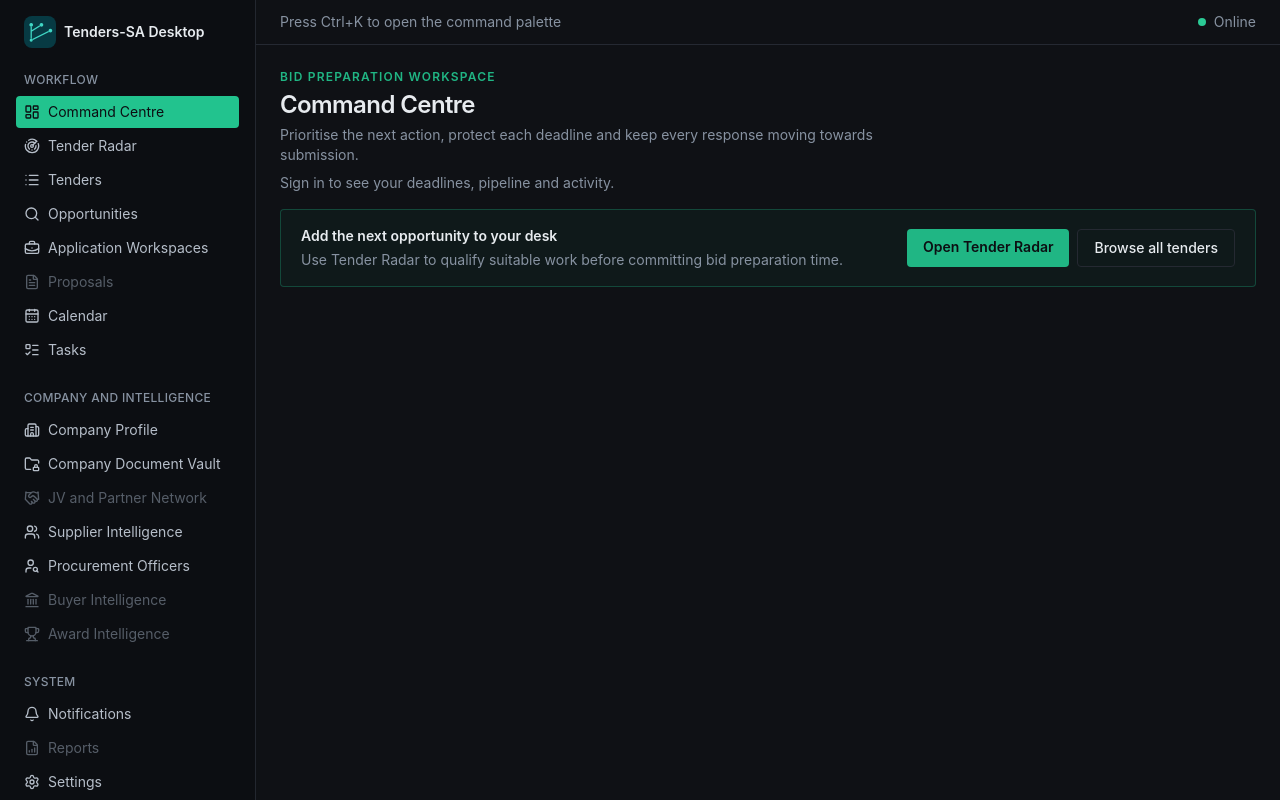
CommandPalette › shows an empty state when nothing matches
The image size is (1280, 800).
Type keys "{Control>}k{/Control}"
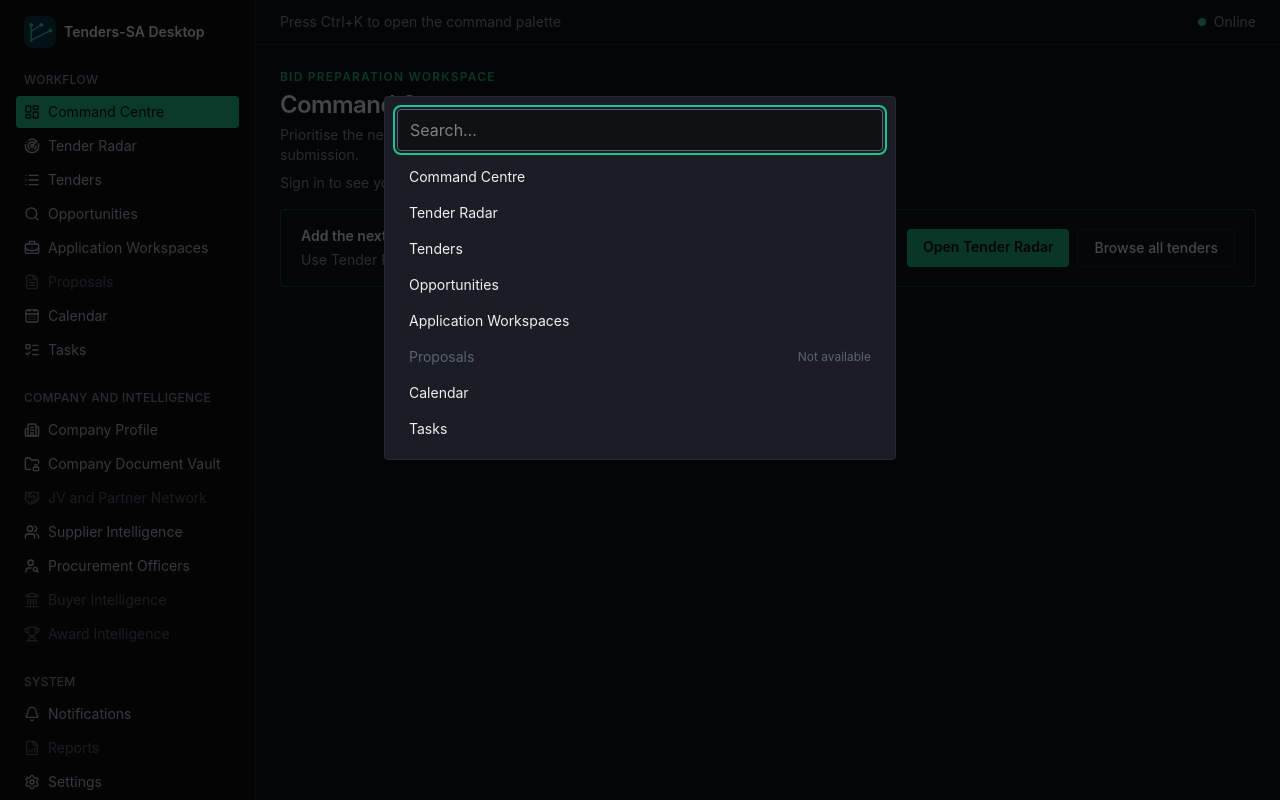
Type "zzzznotathing" into the field named "Search commands". click: (640, 130)
box: [397,109,883,151]
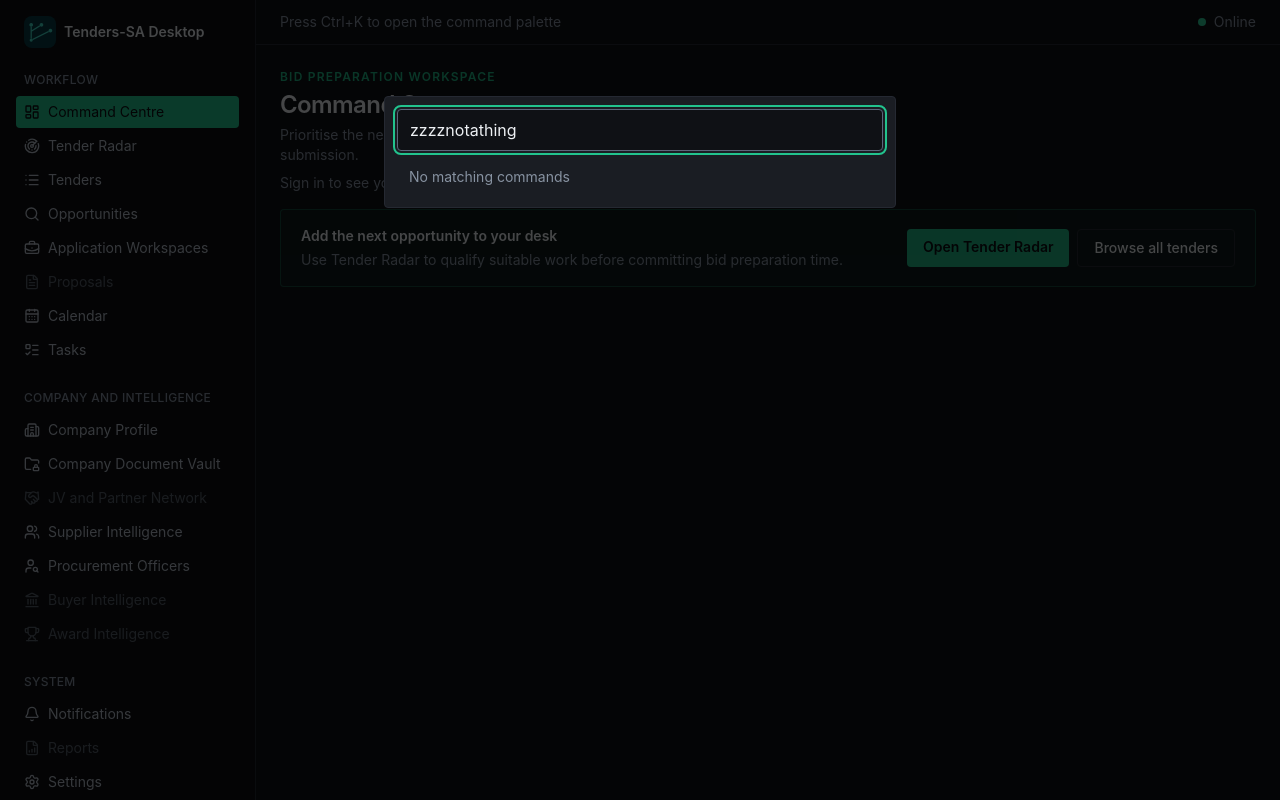
Expected: the list item "No matching commands" is shown, [409,168,570,185]
